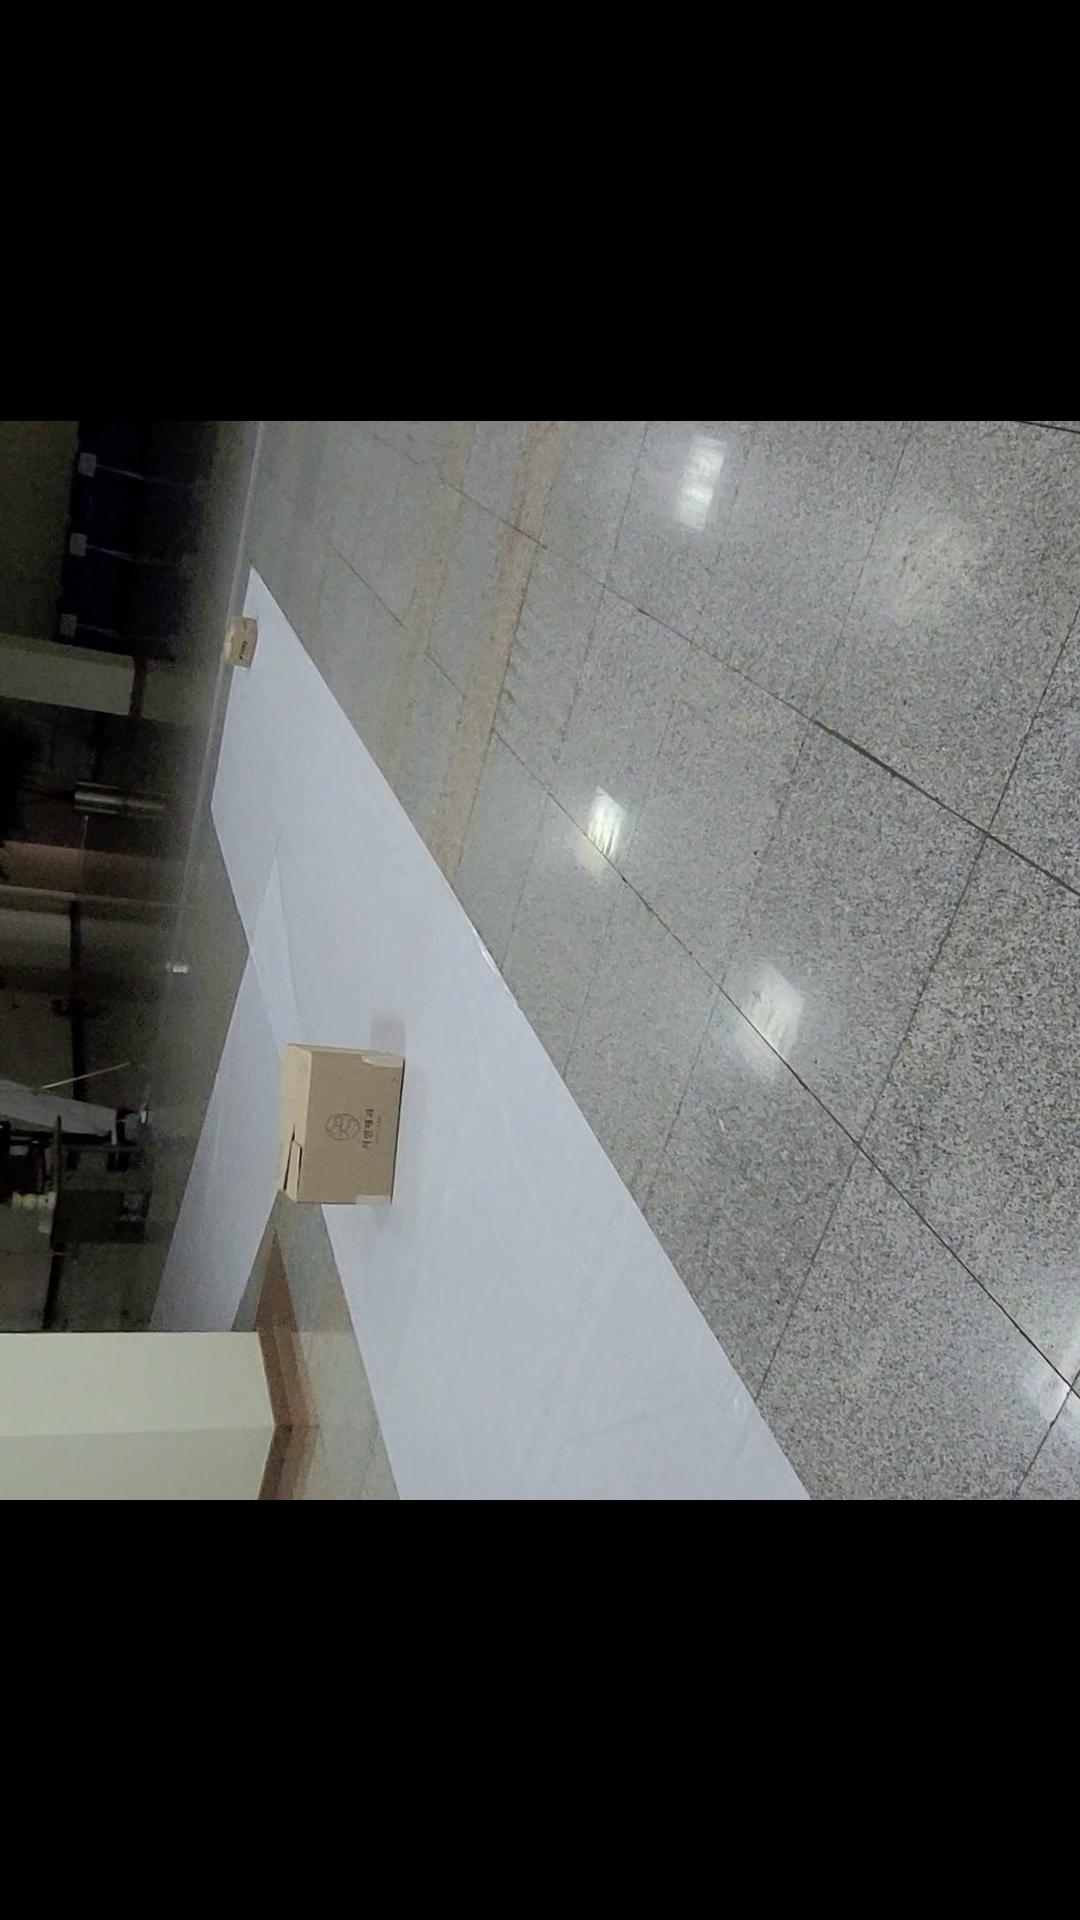Box: (245, 978, 442, 1232), (200, 589, 297, 688)
